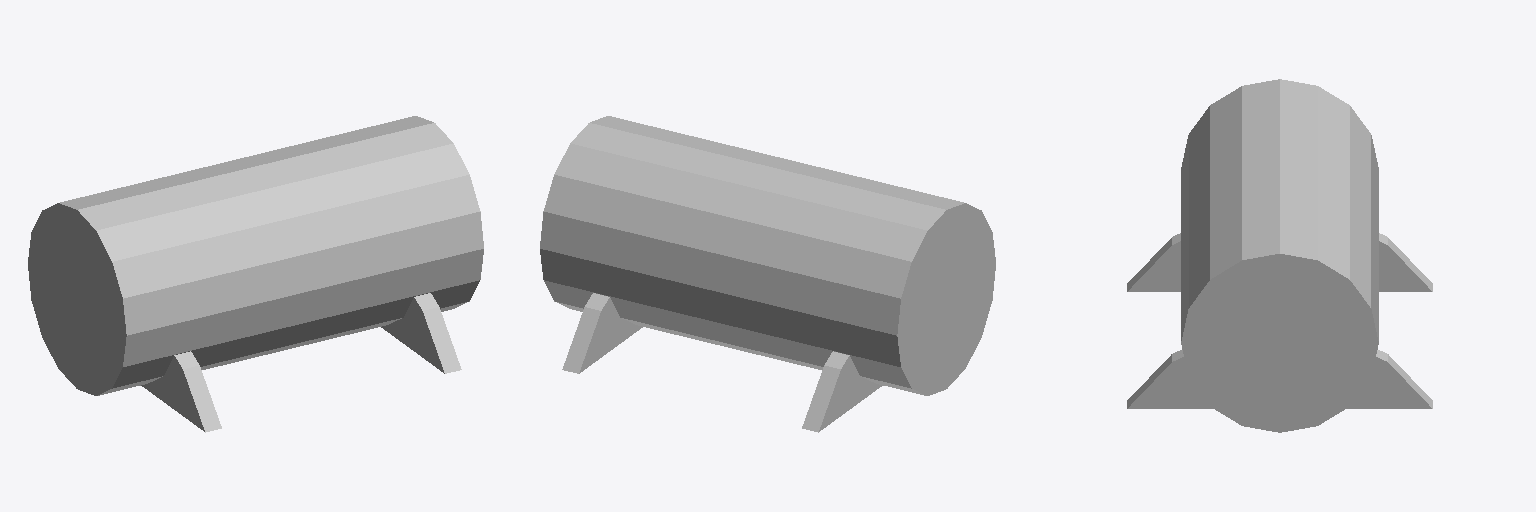
File: connector1.obj
The picture shows the model from 3 angles: view 1: azimuth 30°, elevation 25°; view 2: azimuth 150°, elevation 25°; view 3: azimuth 270°, elevation 25°; orthographic projection.
Parts seen in each view (by area): view 1: Connector.Central.Tube_Circle.006, Connector.Central.Supports_Circle.007; view 2: Connector.Central.Tube_Circle.006, Connector.Central.Supports_Circle.007; view 3: Connector.Central.Tube_Circle.006, Connector.Central.Supports_Circle.007.
Boxes of the visible parts, x1,y1,x2,y2 form: Connector.Central.Tube_Circle.006: [28, 116, 483, 395]; Connector.Central.Supports_Circle.007: [141, 293, 461, 432]; Connector.Central.Tube_Circle.006: [540, 116, 995, 395]; Connector.Central.Supports_Circle.007: [562, 293, 882, 432]; Connector.Central.Tube_Circle.006: [1181, 79, 1378, 432]; Connector.Central.Supports_Circle.007: [1127, 233, 1432, 408].
Bounding box in the file's own units: 0.4174 × 0.2 × 0.3087.